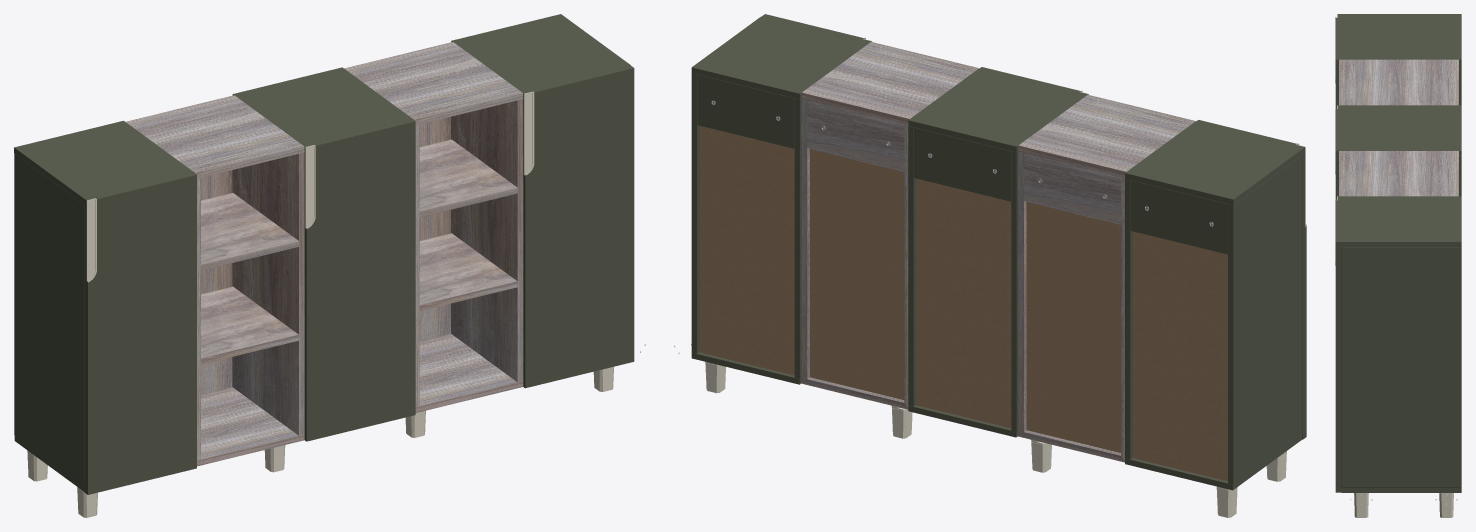
3 renders of one model, left to right at view 1: azimuth 30°, elevation 25°; view 2: azimuth 150°, elevation 25°; view 3: azimuth 270°, elevation 25°, orthographic. The views are drawn at different scales.
Parts seen in each view (by area): view 1: Cube.005, Cube.002, Cube.004, Cube.003, Cube.001, group_0.572; view 2: Cube.005, Cube.003, Cube.001, group_0.107, group_0.524, group_0.369, Cube.002, Cube.004, group_0.572; view 3: Cube.004, Cube.005, Cube.002, Cube.001, Cube.003, group_0.572.
Boxes of the visible parts, left/top/right/bottom form: Cube.005: left=14, top=120, right=196, bottom=494; Cube.002: left=232, top=67, right=415, bottom=441; Cube.004: left=451, top=14, right=634, bottom=388; Cube.003: left=344, top=42, right=523, bottom=412; Cube.001: left=125, top=95, right=304, bottom=466; group_0.572: left=27, top=91, right=613, bottom=517; Cube.005: left=1125, top=120, right=1306, bottom=490; Cube.003: left=801, top=42, right=979, bottom=409; Cube.001: left=1018, top=94, right=1195, bottom=462; group_0.107: left=916, top=178, right=1011, bottom=428; group_0.524: left=699, top=126, right=794, bottom=375; group_0.369: left=1133, top=231, right=1227, bottom=481; Cube.002: left=908, top=67, right=1088, bottom=437; Cube.004: left=691, top=14, right=871, bottom=384; group_0.572: left=705, top=37, right=1306, bottom=517; Cube.004: left=1335, top=196, right=1461, bottom=492; Cube.005: left=1335, top=14, right=1461, bottom=108; Cube.002: left=1335, top=105, right=1461, bottom=199; Cube.001: left=1339, top=59, right=1458, bottom=105; Cube.003: left=1339, top=151, right=1458, bottom=196; group_0.572: left=1335, top=14, right=1453, bottom=517.
Size of the model in its own units: 1.84 by 1 by 0.4113.
14 materials, 3 textured.
